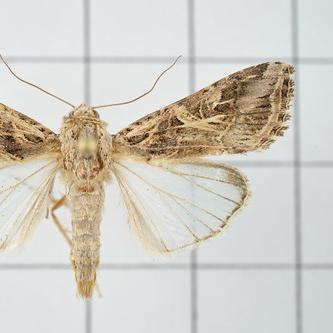Spodoptera litura: (1, 53, 295, 300)
